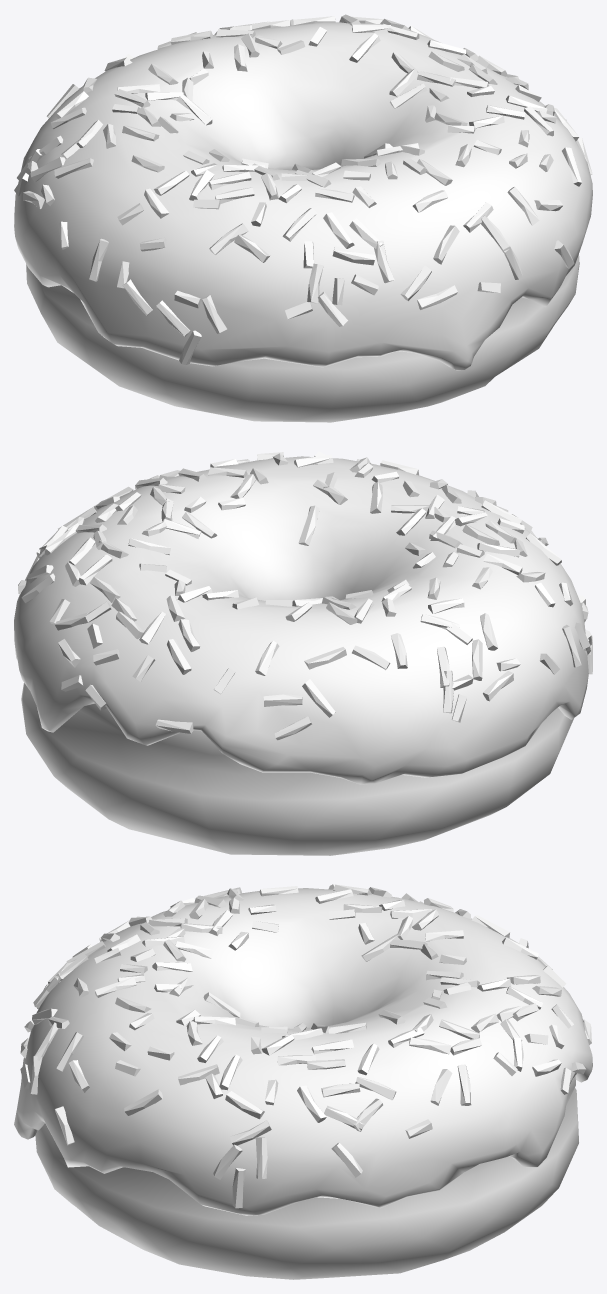
The model's file is donut_white_lesser.gltf.
The picture shows the model from 3 angles, top to bottom: view 1: azimuth 30°, elevation 25°; view 2: azimuth 150°, elevation 25°; view 3: azimuth 270°, elevation 25°; orthographic projection.
Parts seen in each view (by area): view 1: Icing, Dough; view 2: Icing, Dough; view 3: Icing, Dough.
Boxes of the visible parts, bbox=[...] form: Icing: bbox=[14, 14, 592, 370]; Dough: bbox=[26, 254, 579, 422]; Icing: bbox=[14, 451, 592, 784]; Dough: bbox=[21, 683, 573, 855]; Icing: bbox=[14, 884, 592, 1215]; Dough: bbox=[35, 1076, 578, 1279].
Bounding box in the file's own units: 1.01 × 0.4718 × 1.01.
Materials: 1 (1 with a texture image).
